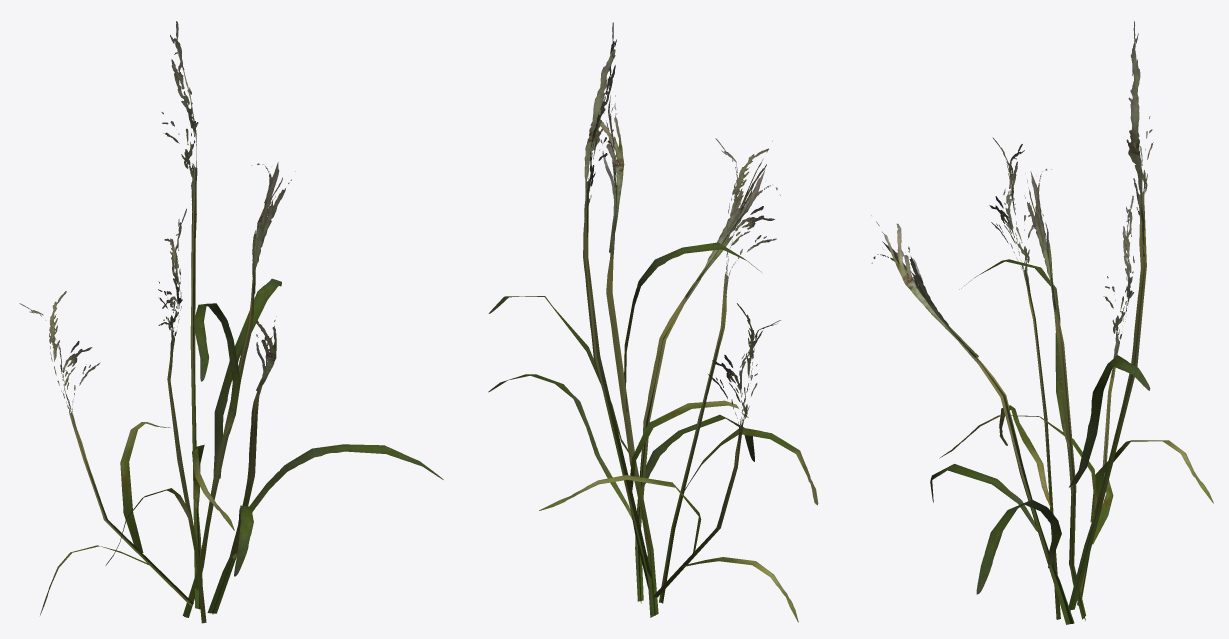
3 views of the same model, side by side, from view 1: azimuth 30°, elevation 25°; view 2: azimuth 150°, elevation 25°; view 3: azimuth 270°, elevation 25° (orthographic). The views are drawn at different scales.
Parts seen in each view (by area): view 1: grass_medium_01__g_lod0; view 2: grass_medium_01__g_lod0; view 3: grass_medium_01__g_lod0.
Boxes of the visible parts, x1,y1,x2,y2 form: grass_medium_01__g_lod0: [19, 21, 443, 623]; grass_medium_01__g_lod0: [488, 22, 818, 622]; grass_medium_01__g_lod0: [871, 21, 1213, 624].
Bounding box in the file's own units: 0.153 × 0.2363 × 0.1282.
1 material, 1 textured.
